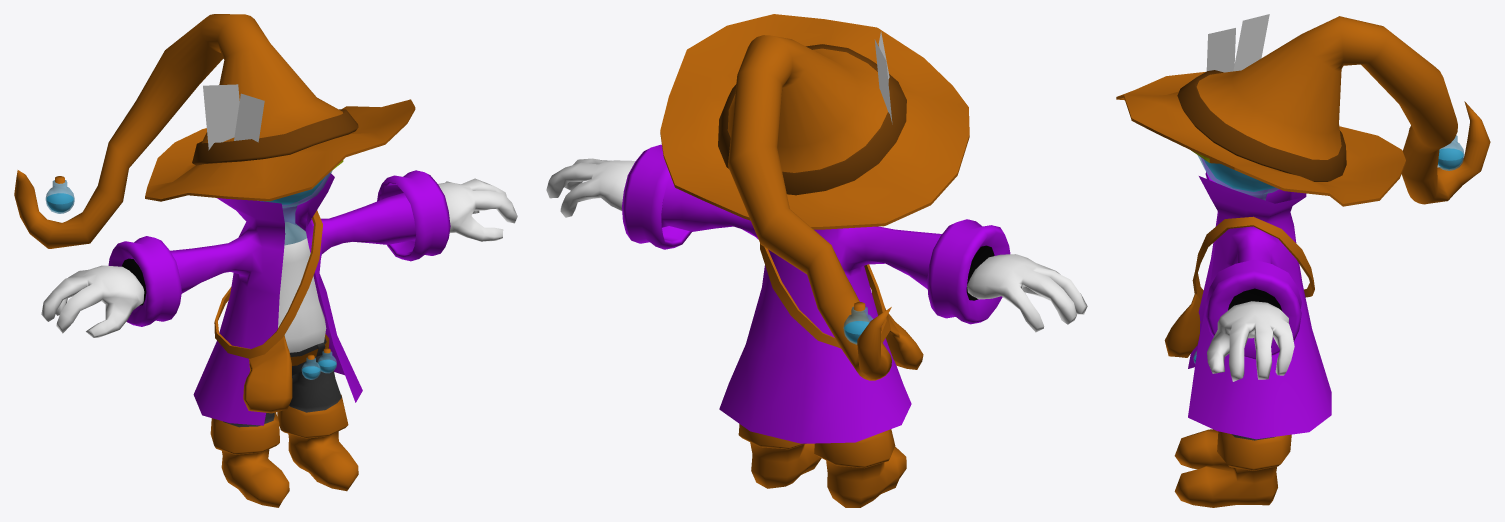
File: Player_Bottlehead_Mesh_Import.fbx
The picture shows the model from 3 angles, left to right: view 1: azimuth 30°, elevation 25°; view 2: azimuth 150°, elevation 25°; view 3: azimuth 270°, elevation 25°; orthographic projection. The views are drawn at different scales.
Visible parts, largest first — view 1: FinalMesh; view 2: FinalMesh; view 3: FinalMesh.
Part boxes in pixels (box(x1,y1,x2,y2)): FinalMesh: box(14, 14, 517, 507); FinalMesh: box(546, 14, 1087, 507); FinalMesh: box(1116, 14, 1490, 507).
Size of the model in its own units: 196 by 174 by 127.
